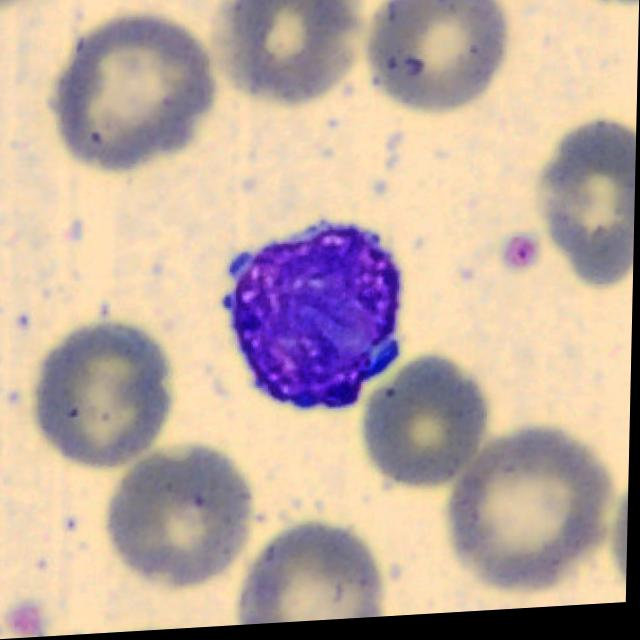Linfocito: (223, 230, 402, 415)
